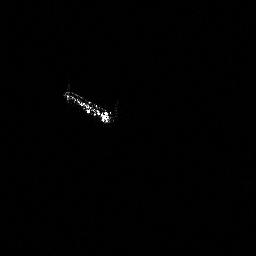ship: (60, 85, 118, 128)
